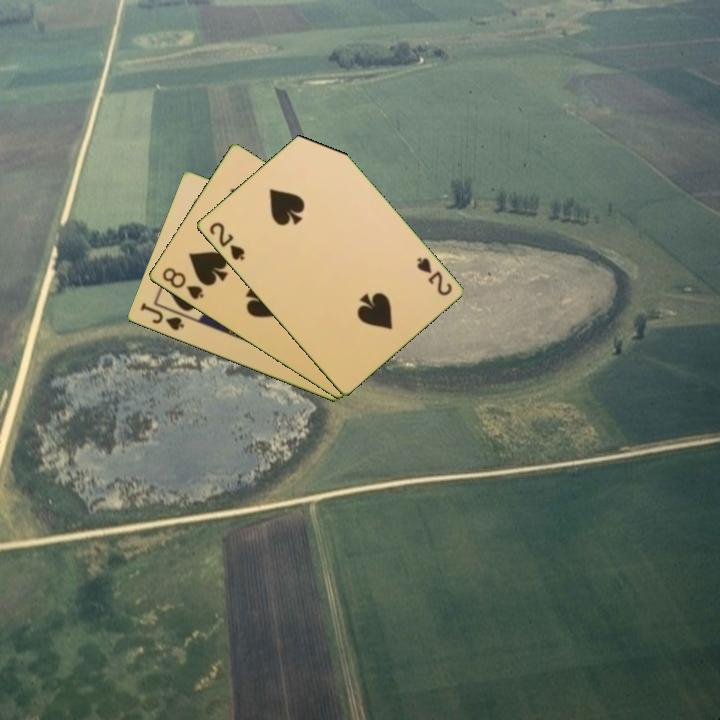2s: (205, 218, 248, 264), (413, 253, 455, 299)
8s: (158, 264, 206, 303)
Js: (136, 300, 187, 334)
